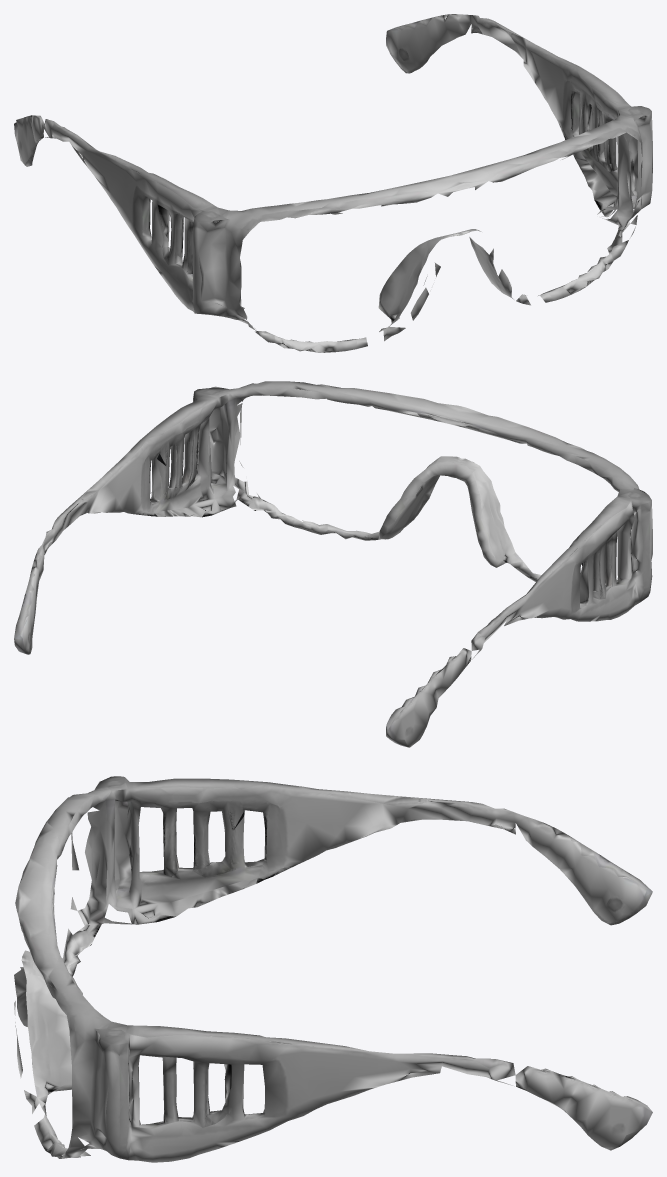
File: head_accessory__0_041-.glb
The picture shows the model from 3 angles, top to bottom: view 1: azimuth 30°, elevation 25°; view 2: azimuth 150°, elevation 25°; view 3: azimuth 270°, elevation 25°; orthographic projection. The views are drawn at different scales.
Visible parts, largest first — view 1: geometry_0_041; view 2: geometry_0_041; view 3: geometry_0_041.
Boxes of the visible parts, box(x1,y1,x2,y2) form: geometry_0_041: box(14, 14, 652, 352); geometry_0_041: box(14, 381, 652, 747); geometry_0_041: box(14, 776, 652, 1162).
Bounding box in the file's own units: 0.7731 × 0.239 × 0.7739.
Materials: 1 (1 with a texture image).
